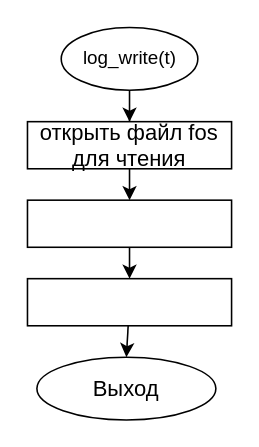
Some shapes in this 259 by 447 pixel diagram are drawn without their labels. Each missing label, with the centre of its shape:
"закрыть файл fos" goes at (x=129, y=301).
"записать t в fos" goes at (x=129, y=223).
